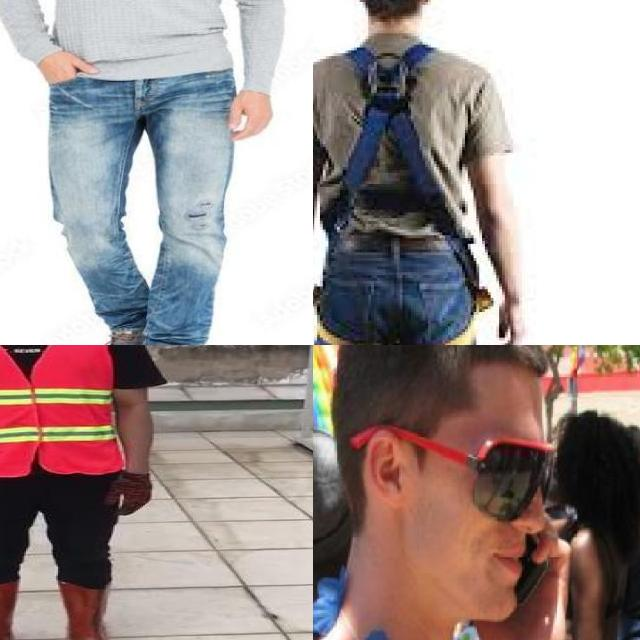Harness: (322, 44, 458, 249)
No_Ear-Protection: (359, 430, 411, 508)
boots: (61, 581, 127, 640)
face_nomask: (471, 438, 554, 584)
glasses: (351, 434, 555, 528)
hand_glove: (106, 475, 152, 516)
hand_noglove: (220, 73, 276, 147), (22, 43, 106, 90)
head_nohelmet: (338, 345, 561, 392), (556, 404, 634, 483)
person: (0, 0, 287, 345), (313, 345, 625, 640), (0, 345, 168, 640)
vest: (0, 345, 120, 477)
